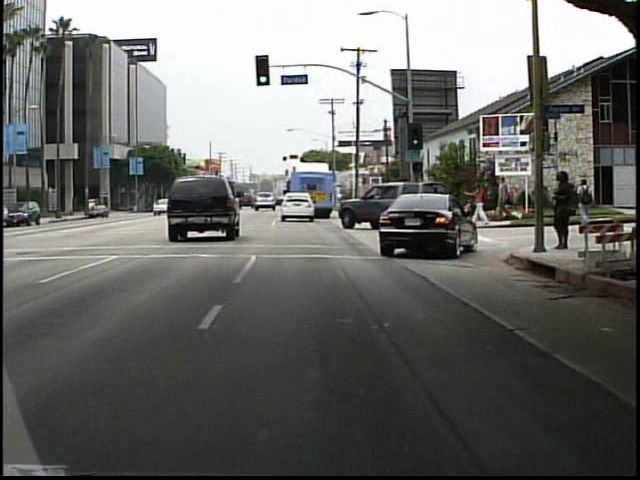person: (546, 167, 572, 255), (467, 178, 493, 229), (576, 174, 596, 228), (495, 176, 513, 222)
